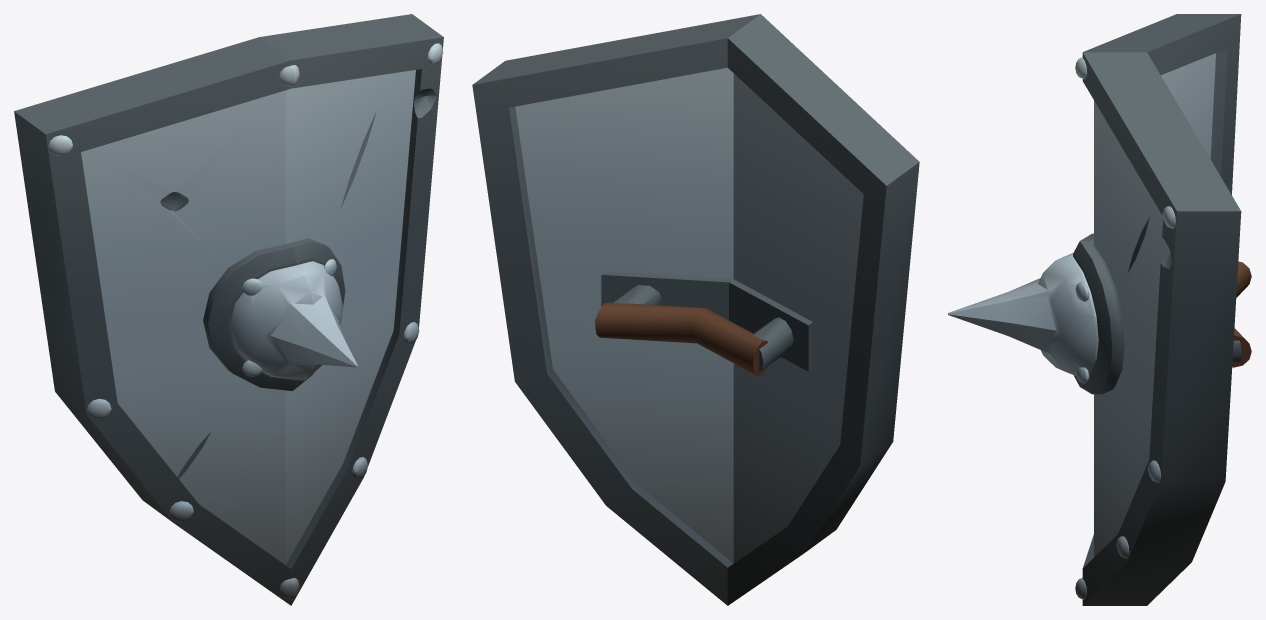
The model's file is shield_heater_iron.glb.
The picture shows the model from 3 angles, left to right: view 1: azimuth 30°, elevation 25°; view 2: azimuth 150°, elevation 25°; view 3: azimuth 270°, elevation 25°; orthographic projection. The views are drawn at different scales.
Visible parts, largest first — view 1: Item; view 2: Item; view 3: Item.
Part boxes in pixels (box(x1,y1,x2,y2)): Item: box(14, 14, 443, 605); Item: box(472, 14, 919, 605); Item: box(948, 14, 1251, 605).
Size of the model in its own units: 0.84 by 1.1 by 0.5466.
2 materials, 2 textured.
